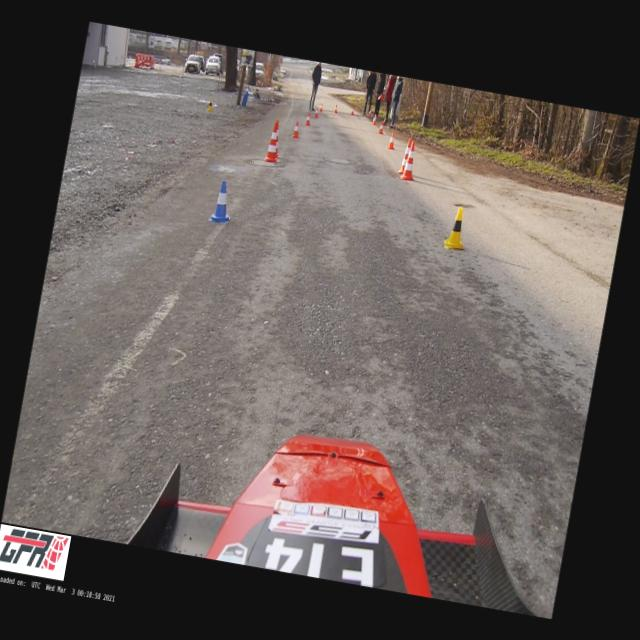blue_cone: (208, 179, 236, 224), (245, 86, 249, 94)
large_orange_cone: (263, 121, 283, 162), (400, 140, 420, 180), (398, 136, 412, 173)
orange_cone: (387, 130, 398, 150), (292, 120, 302, 138), (304, 112, 311, 126), (378, 120, 385, 134), (313, 106, 319, 118), (371, 114, 377, 125), (366, 108, 372, 118), (350, 106, 355, 116), (333, 104, 338, 113), (319, 102, 323, 111)
yellow_cone: (442, 205, 471, 251), (207, 97, 214, 111)
